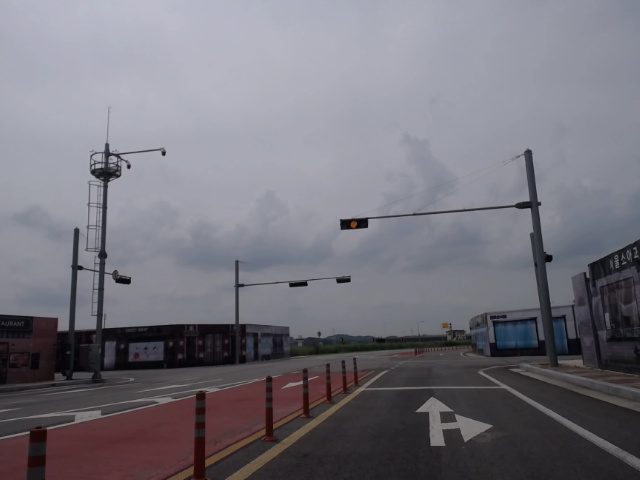orange_3: (341, 217, 368, 229)
